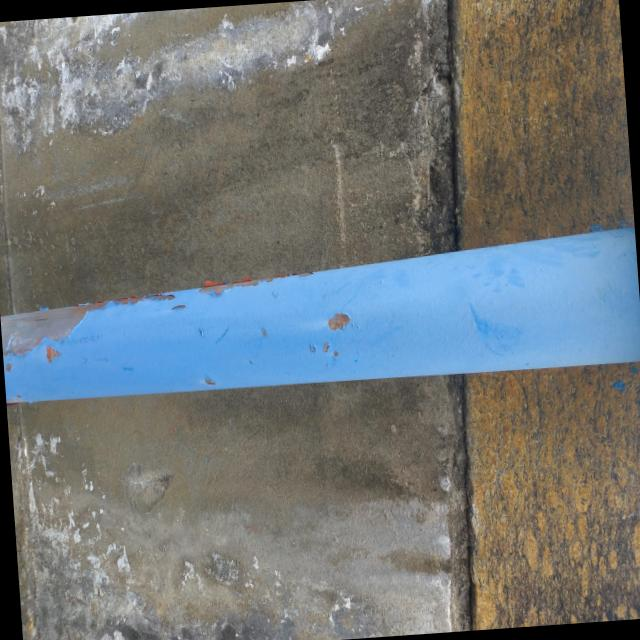gas: (0, 225, 640, 402)
